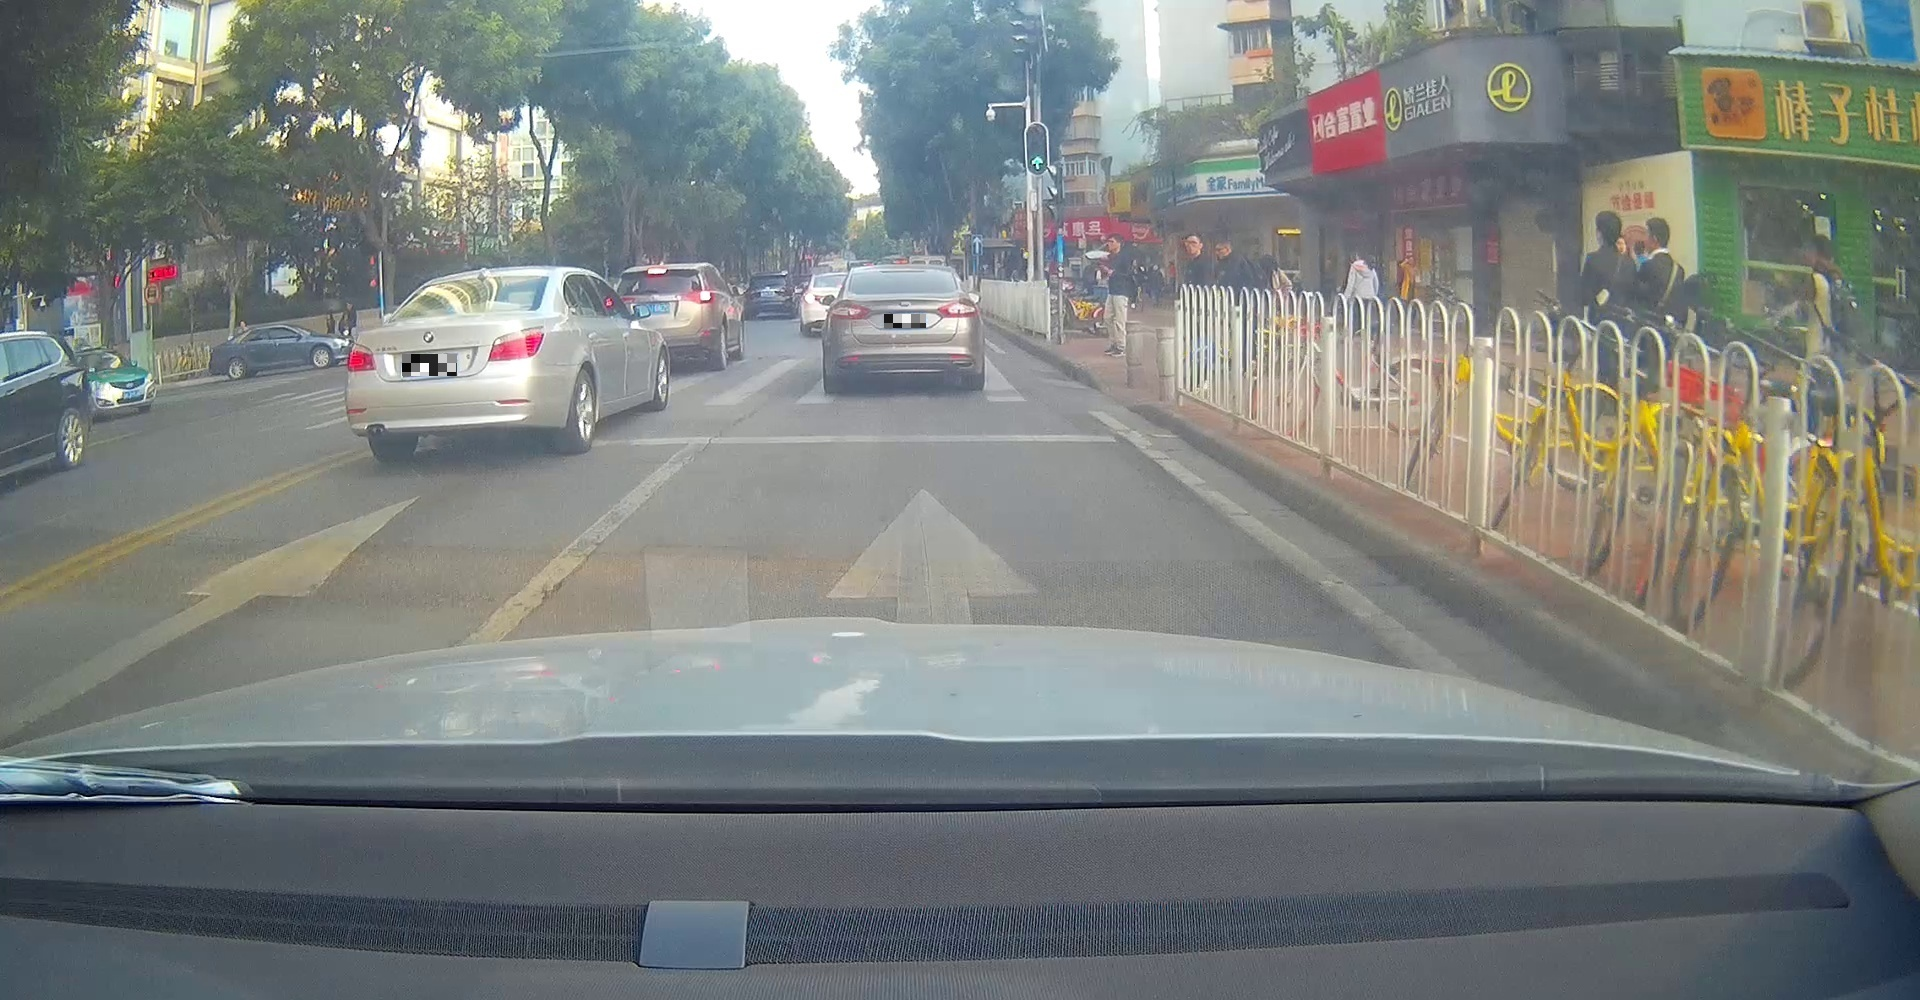L_light: (347, 344, 377, 372), (829, 301, 870, 319)
R_light: (488, 326, 543, 363), (937, 298, 977, 319)
T_light: (466, 279, 491, 286), (890, 272, 918, 275)
day-no: (344, 266, 555, 461), (828, 264, 978, 393)
plate_1: (403, 354, 457, 376)
plate_2: (884, 313, 926, 327)
